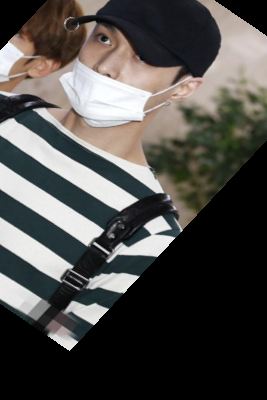mask_weared_incorrect: (65, 2, 228, 132)
